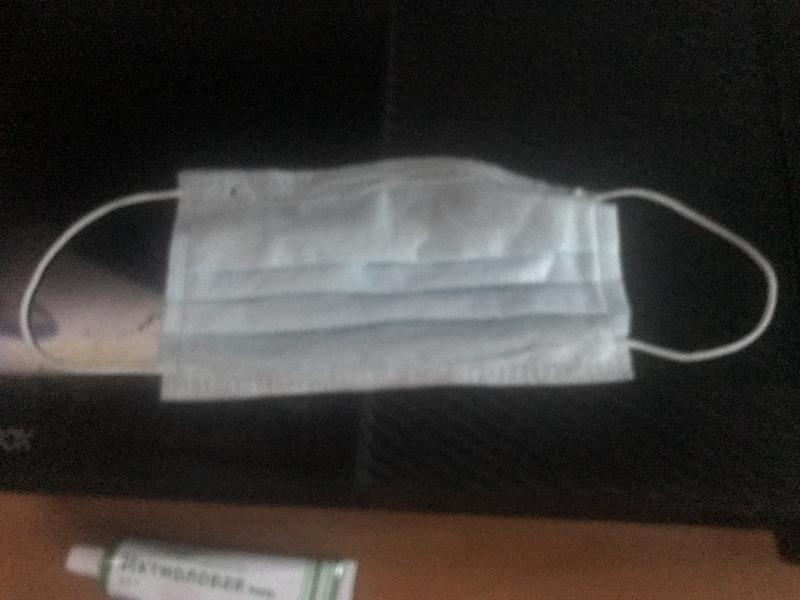medical_mask: (23, 154, 777, 387)
